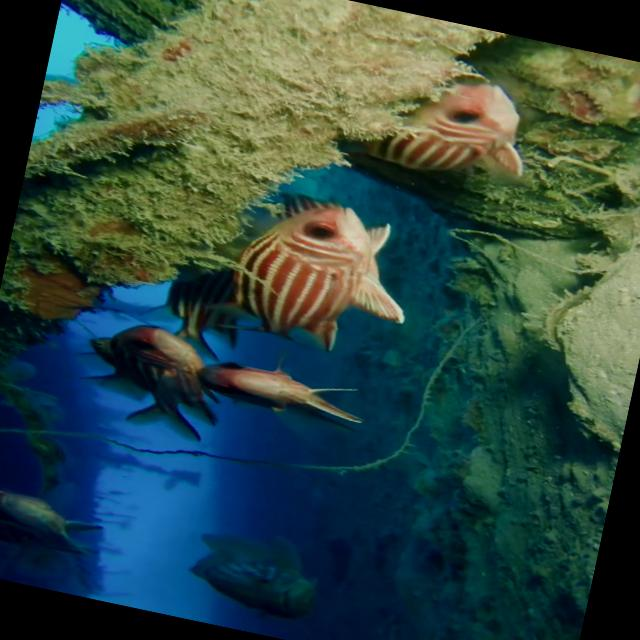Asker Baligi: (208, 178, 427, 367), (358, 56, 542, 192)
